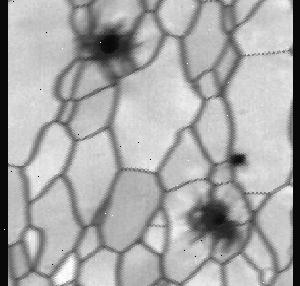good_void: (70, 15, 137, 85), (176, 192, 246, 258), (229, 152, 250, 170)
